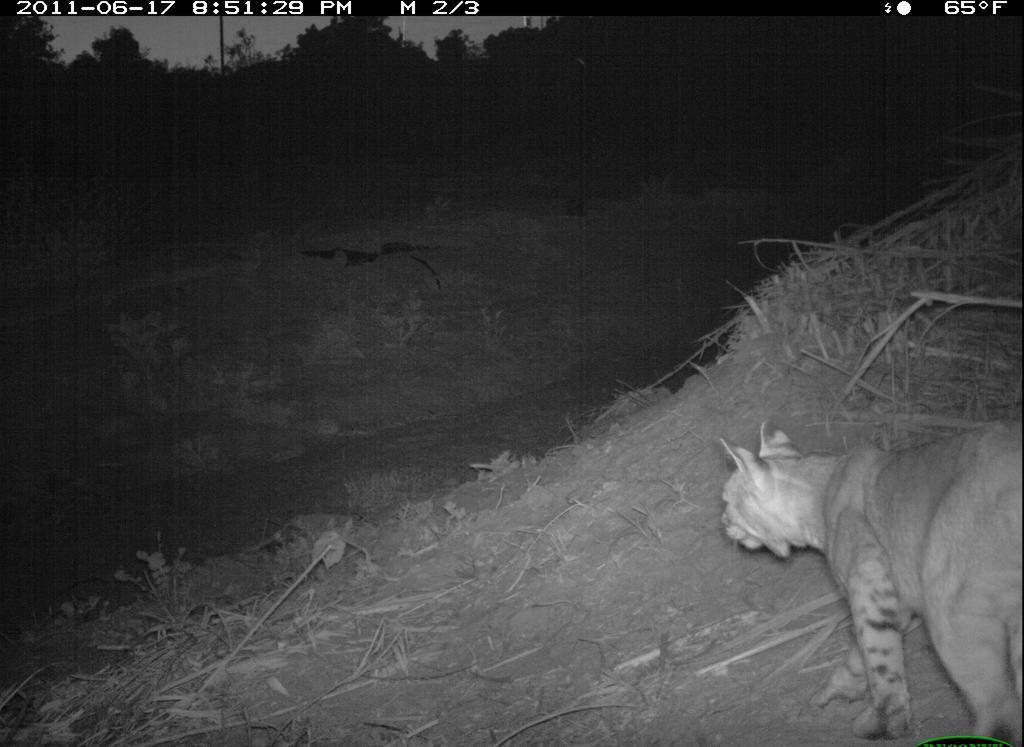bobcat: (713, 399, 1021, 742)
